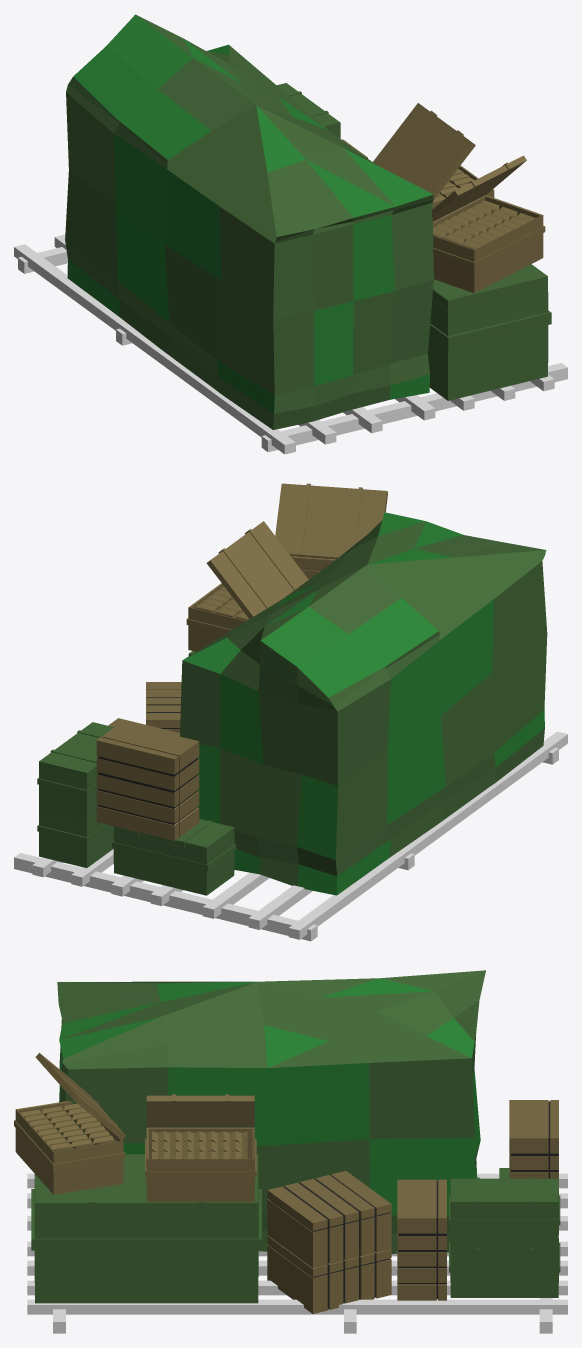
The model's file is RTS兵站.fbx.
3 views of the same model, one above another, from view 1: azimuth 30°, elevation 25°; view 2: azimuth 150°, elevation 25°; view 3: azimuth 270°, elevation 25° (orthographic).
Parts seen in each view (by area): view 1: 立方体.012, 立方体.026, 立方体.024, 立方体.028, 立方体.030, 立方体.029; view 2: 立方体.012, 立方体.024, 立方体.031, 立方体.030, 立方体.028, 立方体.013, 立方体.029, 立方体.001, 立方体.027; view 3: 立方体.012, 立方体.026, 立方体.030, 立方体.024, 立方体.027, 立方体.028, 立方体.029, 立方体.025, 立方体.014, 立方体.001, 立方体.031.
Boxes of the visible parts, box(x1,y1,x2,y2) form: 立方体.012: box(65, 14, 433, 429); 立方体.026: box(428, 264, 551, 400); 立方体.024: box(14, 234, 567, 454); 立方体.028: box(431, 155, 545, 293); 立方体.030: box(373, 103, 494, 208); 立方体.029: box(277, 83, 340, 138); 立方体.012: box(180, 512, 547, 895); 立方体.024: box(14, 731, 567, 941); 立方体.031: box(96, 722, 199, 840); 立方体.030: box(186, 521, 308, 651); 立方体.028: box(275, 483, 387, 582); 立方体.013: box(112, 819, 236, 895); 立方体.029: box(37, 722, 113, 820); 立方体.001: box(37, 809, 113, 867); 立方体.027: box(146, 682, 181, 732); 立方体.012: box(57, 970, 485, 1253); 立方体.026: box(31, 1154, 261, 1303); 立方体.030: box(145, 1094, 256, 1201); 立方体.024: box(27, 1173, 567, 1333); 立方体.027: box(267, 1171, 391, 1267); 立方体.028: box(14, 1053, 125, 1194); 立方体.029: box(449, 1177, 560, 1250); 立方体.025: box(397, 1179, 446, 1300); 立方体.014: box(267, 1236, 391, 1313); 立方体.001: box(449, 1238, 560, 1297); 立方体.031: box(509, 1100, 558, 1190).
Size of the model in its own units: 540 by 445 by 865.
